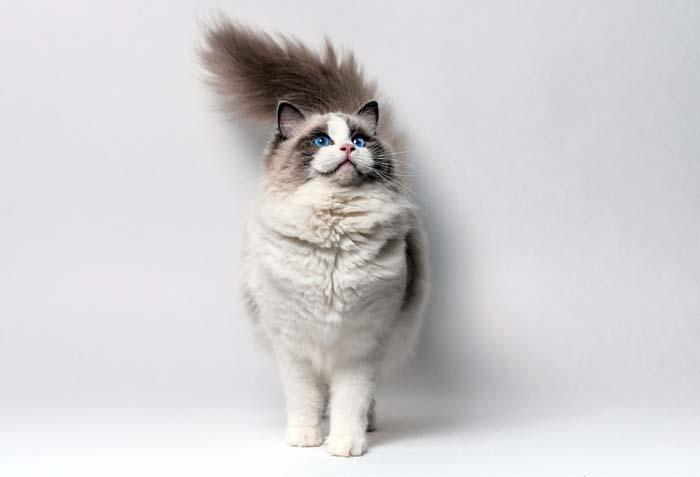ragdoll: (268, 92, 399, 207)
